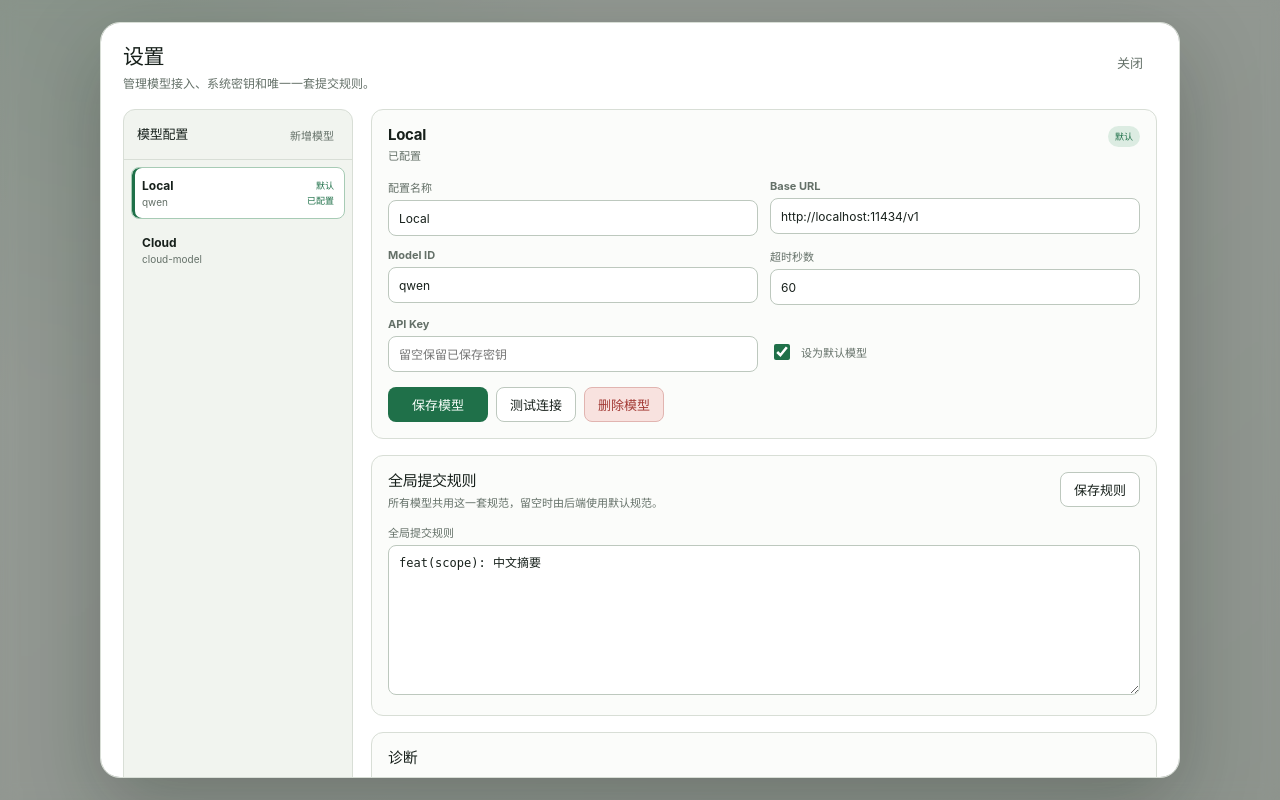
Test: SettingsDialog › tests a saved profile and displays success or failure
Click the button "测试连接" at [536, 405], box [496, 387, 576, 422]
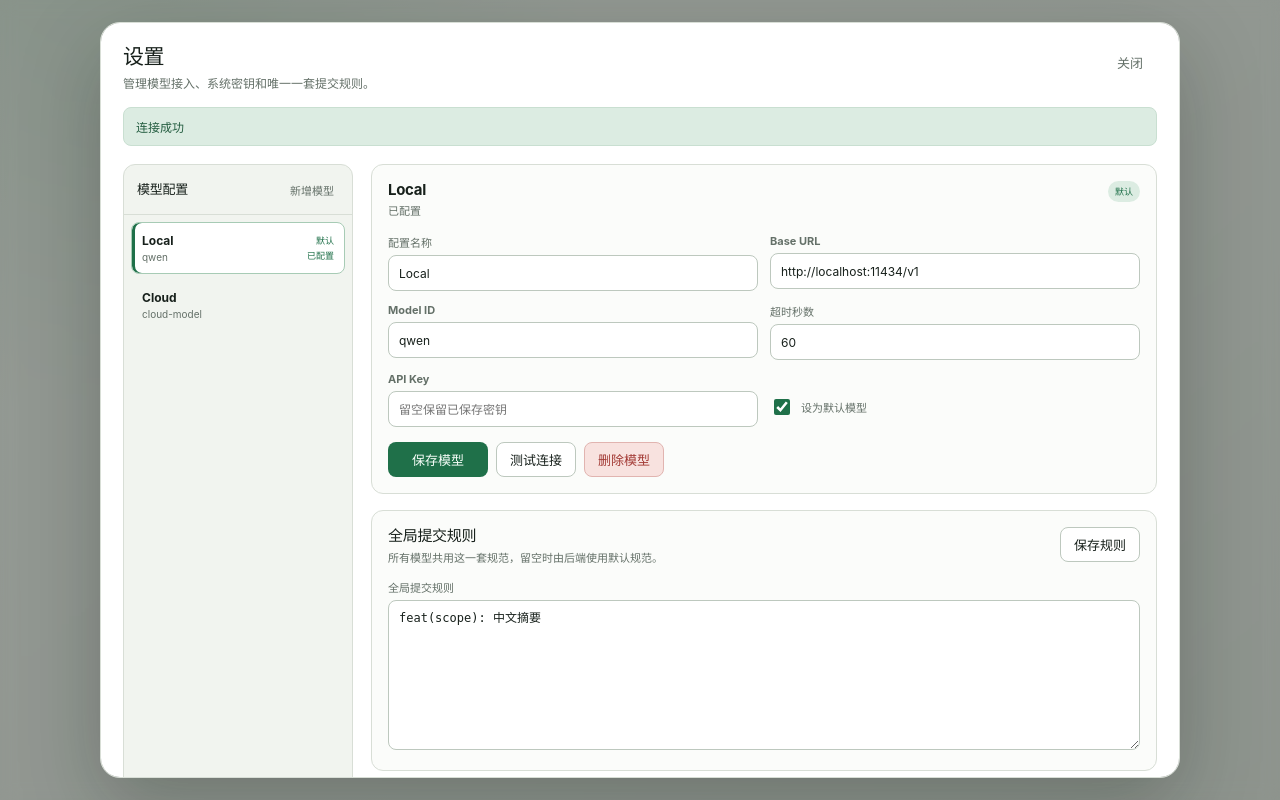
Now the text "连接成功" is shown, box [123, 107, 1157, 146]
Click the button "测试连接" at [536, 460], box [496, 442, 576, 477]
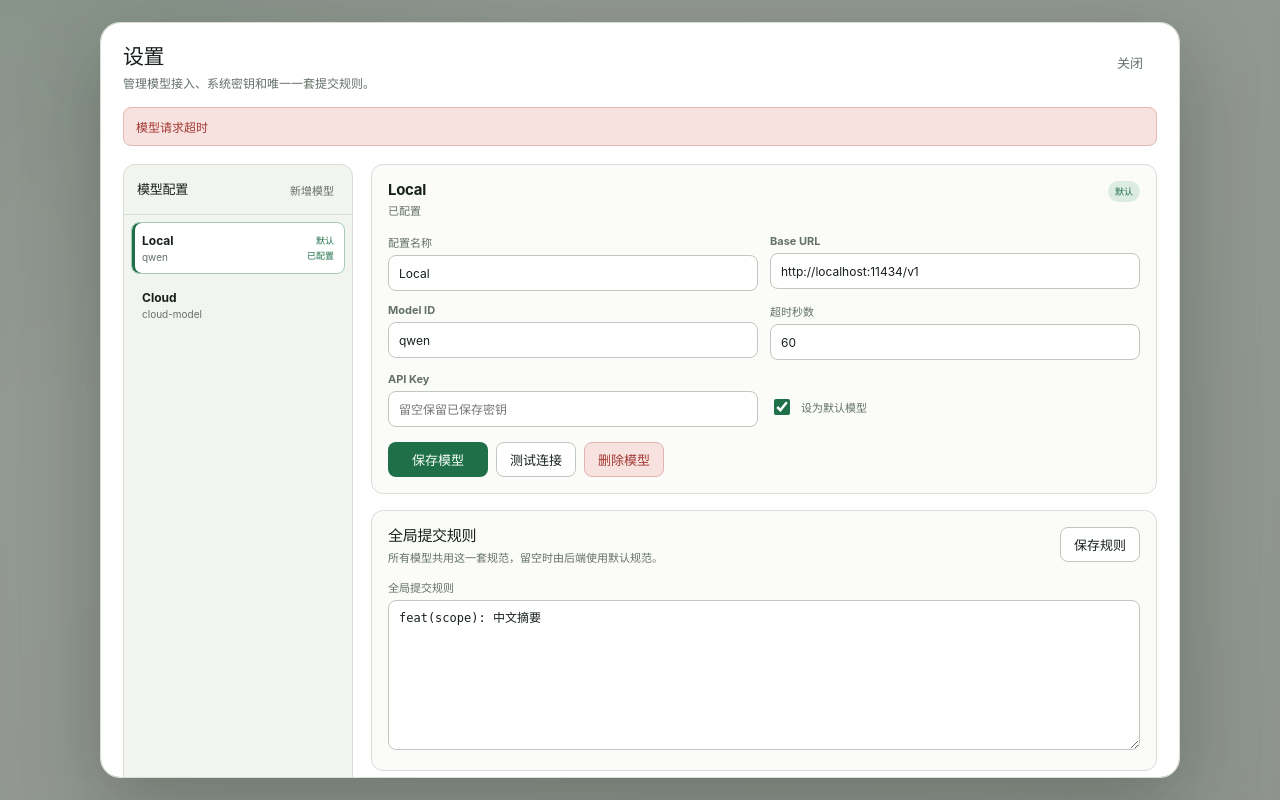
Now the text "模型请求超时" is shown, box [123, 107, 1157, 146]
